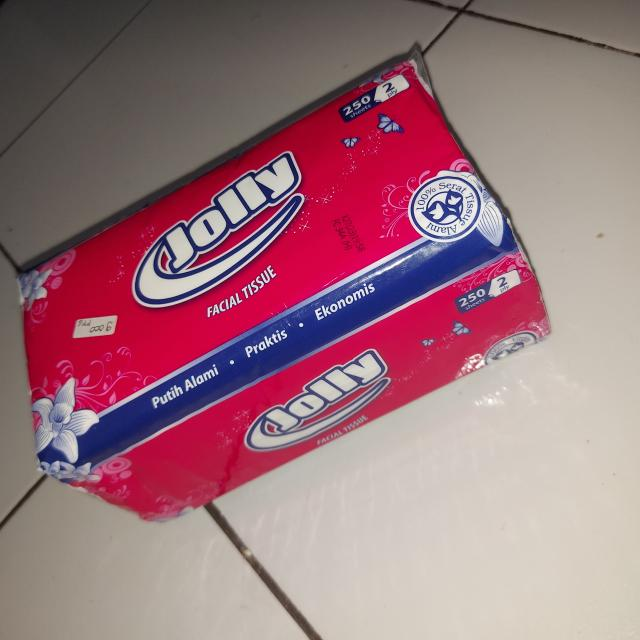Anorganik: (15, 50, 552, 527)
